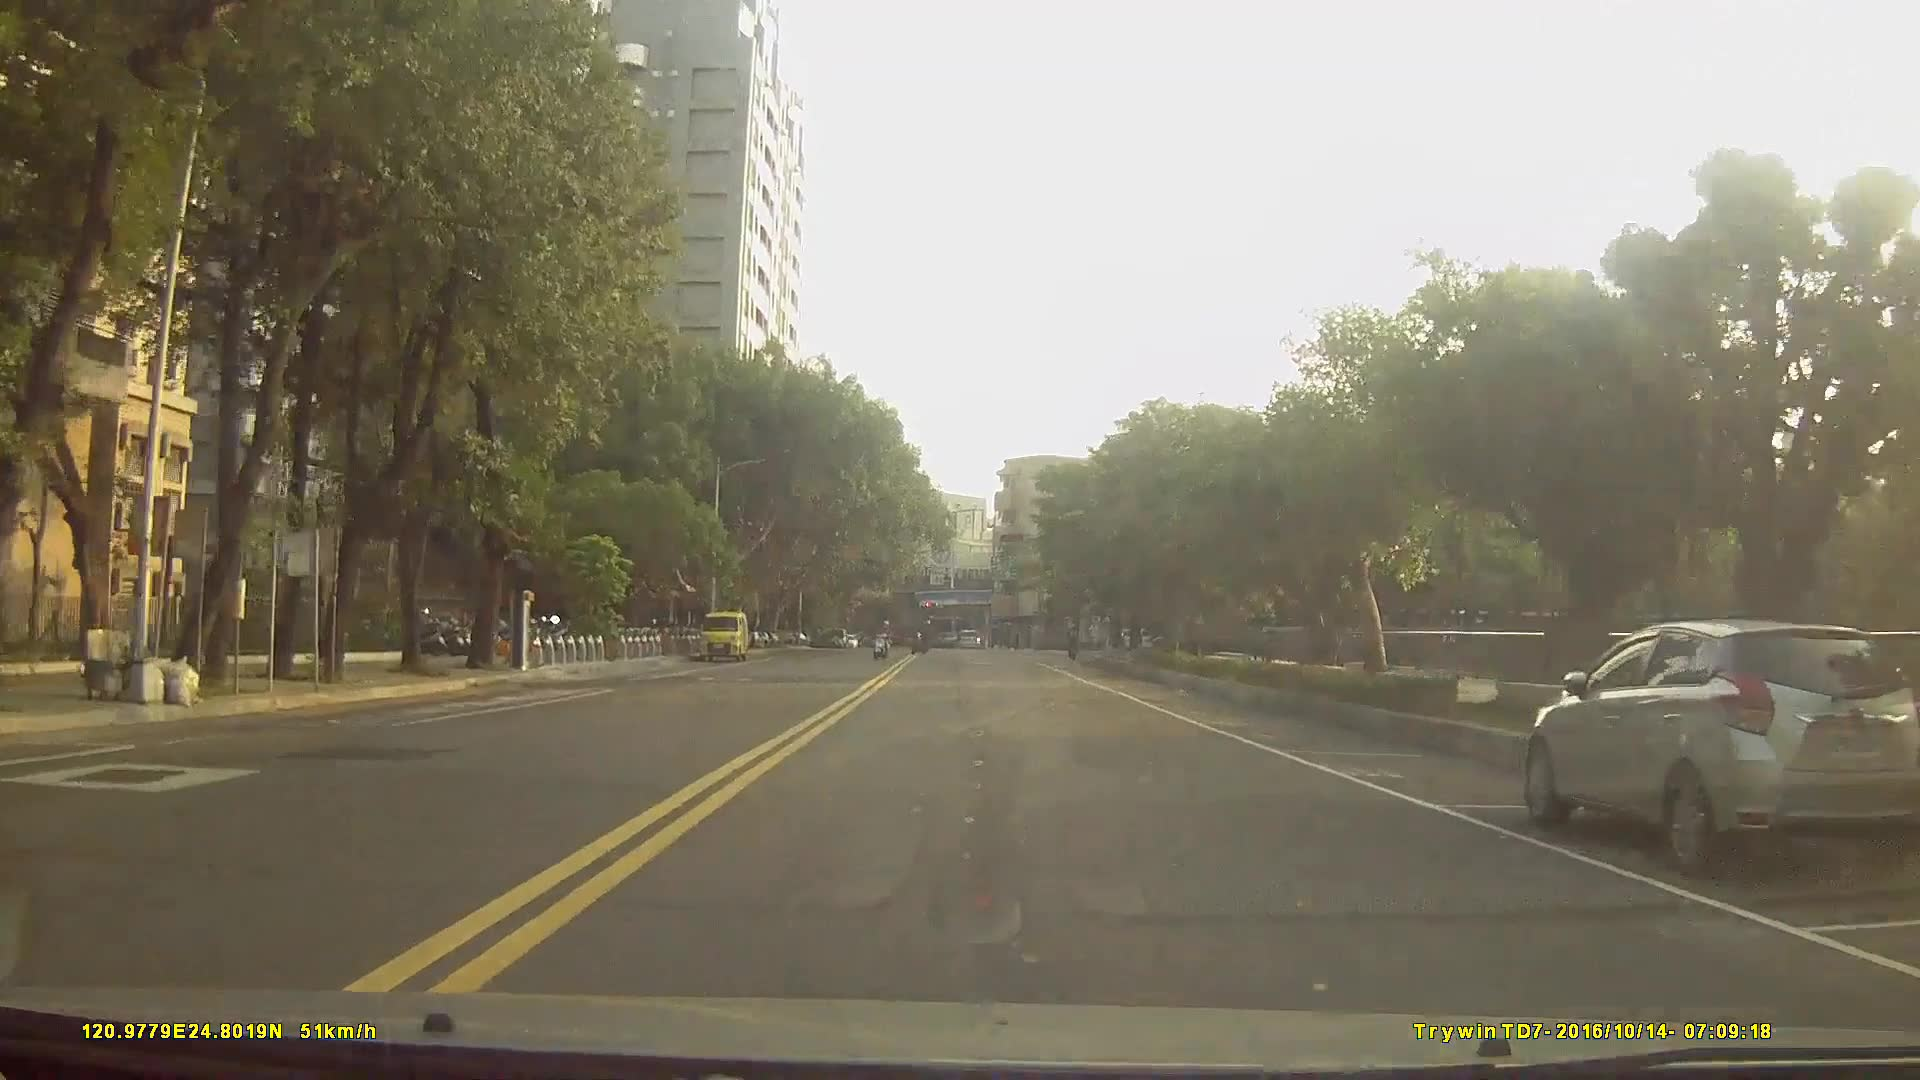pedestrian: (1086, 614, 1106, 656)
rider: (870, 615, 897, 661), (910, 618, 935, 656)
vehicle: (1521, 616, 1920, 877), (954, 625, 981, 649)
